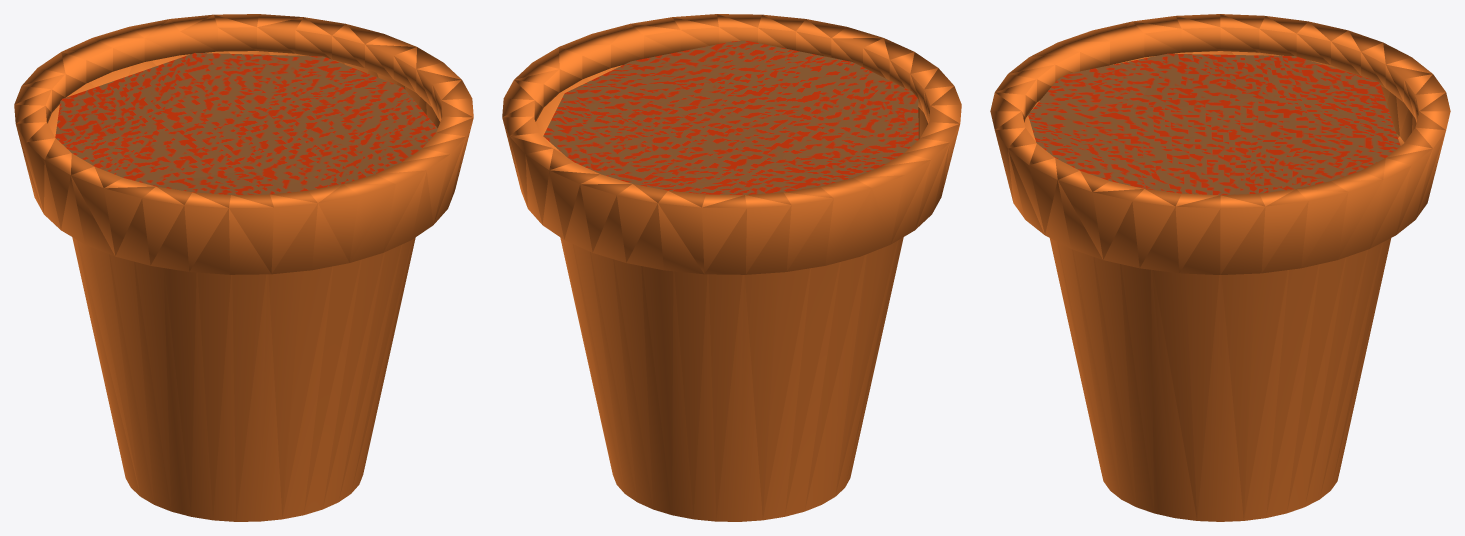
Rendered from maceta.fbx.
The picture shows the model from 3 angles, left to right: view 1: azimuth 30°, elevation 25°; view 2: azimuth 150°, elevation 25°; view 3: azimuth 270°, elevation 25°; orthographic projection.
Parts seen in each view (by area): view 1: Cylinder, Plane; view 2: Cylinder, Plane; view 3: Cylinder, Plane.
Boxes of the visible parts, bbox=[...] form: Cylinder: bbox=[14, 14, 473, 521]; Plane: bbox=[55, 53, 437, 194]; Cylinder: bbox=[502, 14, 961, 521]; Plane: bbox=[543, 41, 918, 194]; Cylinder: bbox=[990, 14, 1450, 521]; Plane: bbox=[1028, 53, 1400, 195].
Size of the model in its own units: 232 by 200 by 232.
Materials: 2 (2 with a texture image).
